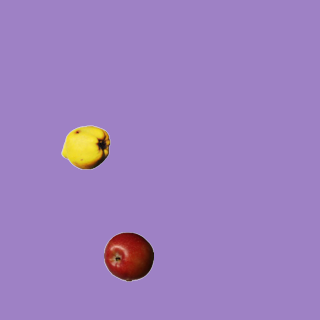Apple Braeburn: (103, 231, 153, 281)
Quince: (60, 122, 110, 172)
